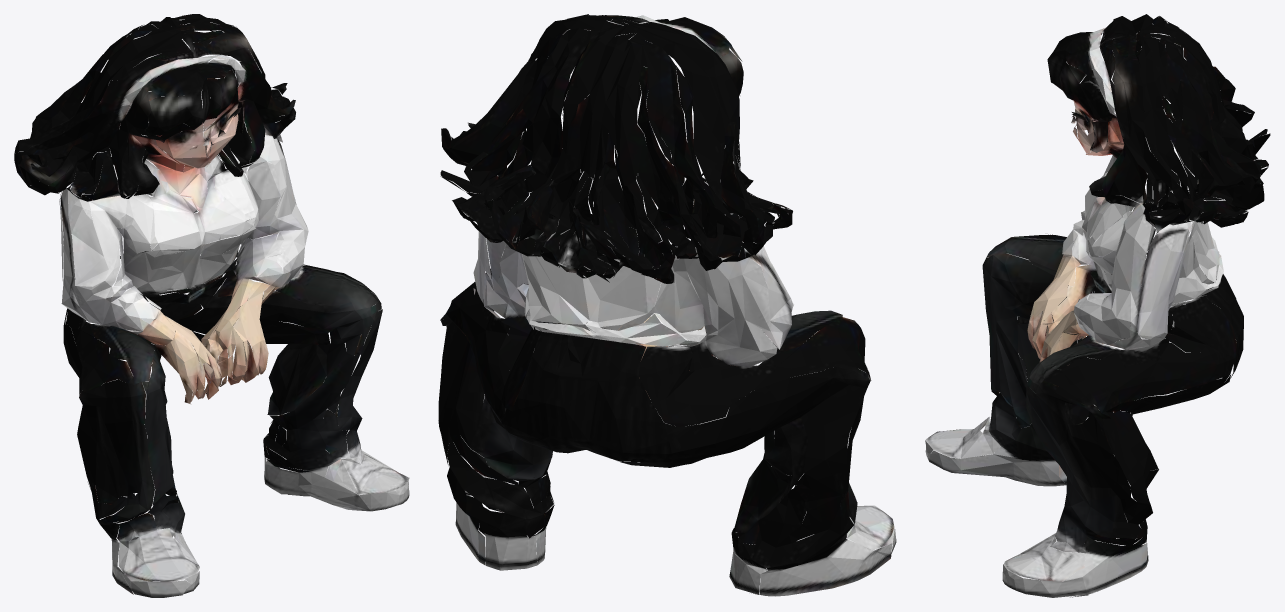
File: char_hermi.glb
The picture shows the model from 3 angles, left to right: view 1: azimuth 30°, elevation 25°; view 2: azimuth 150°, elevation 25°; view 3: azimuth 270°, elevation 25°; orthographic projection. The views are drawn at different scales.
Visible parts, largest first — view 1: char_hermi_model; view 2: char_hermi_model; view 3: char_hermi_model.
Boxes of the visible parts, box(x1,y1,x2,y2) form: char_hermi_model: box(14, 14, 409, 597); char_hermi_model: box(438, 14, 896, 596); char_hermi_model: box(925, 14, 1270, 597).
Bounding box in the file's own units: 0.9323 × 1.3 × 0.8375.
Materials: 1 (1 with a texture image).
